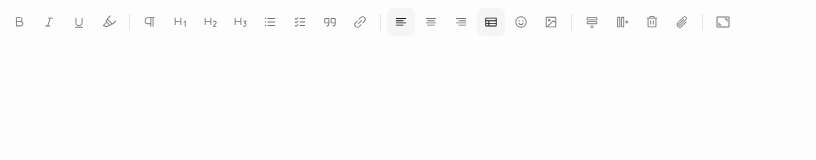
Test: RichTextToolbar › consolidates table delete actions into a single labeled menu
Expected: the text "Delete row" is not shown
What coordinates should you click on to do the following:
click the button named "Delete from table"
I would click on:
 (652, 22)
Its box is x1=638 y1=8 x2=666 y2=36.
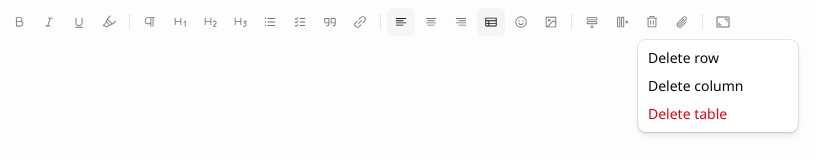
Now the menu item "Delete row" is shown, box x1=648 y1=48 x2=719 y2=67
Now the menu item "Delete column" is shown, box x1=648 y1=76 x2=743 y2=95
Now the menu item "Delete table" is shown, box x1=648 y1=104 x2=727 y2=123
